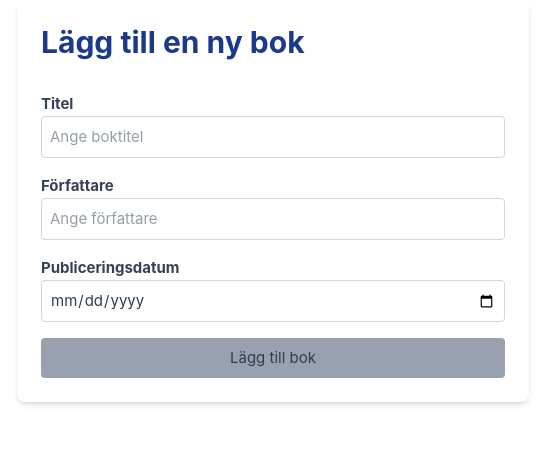
Test: CreateBook.vue › validerar formuläret och skickar en ny bok
Type "Ny Bok" into the field with placeholder "Ange boktitel" at [273, 137], box x1=41 y1=116 x2=505 y2=158
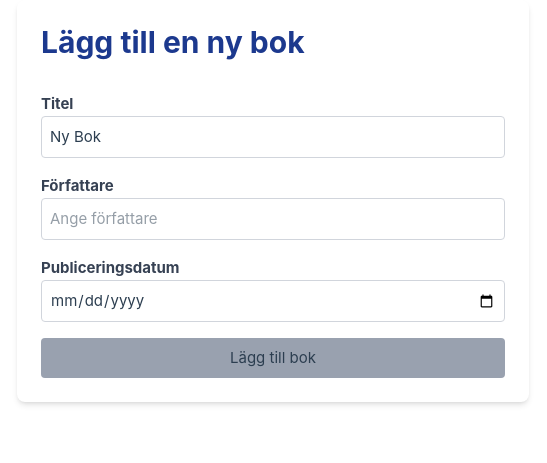
Type "Författare Test" into the field with placeholder "Ange författare" at [273, 219], box x1=41 y1=198 x2=505 y2=240
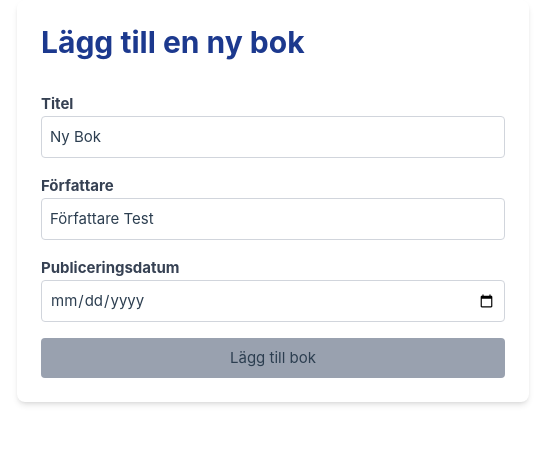
Type "2024-01-01" into the date field with test id "published-date" at [273, 301], box x1=41 y1=280 x2=505 y2=322
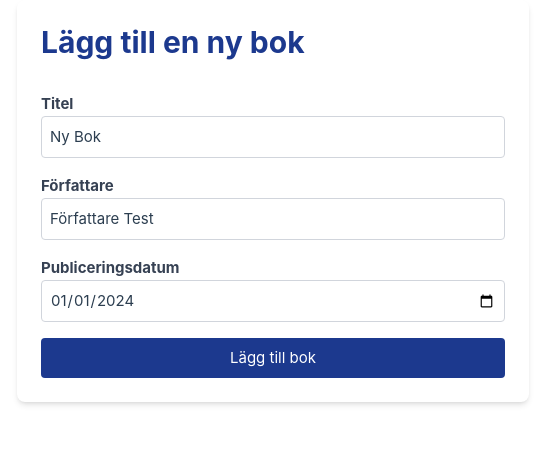
Click the button "Lägg till bok" at [273, 358], box x1=41 y1=338 x2=505 y2=378
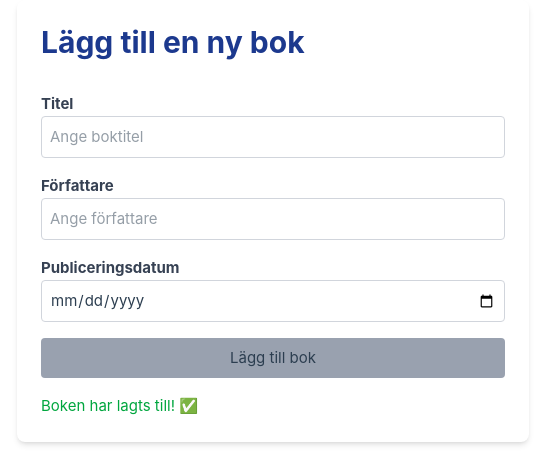
Expected: the text "Boken har lagts till! ✅" is shown, x1=41 y1=396 x2=198 y2=415
